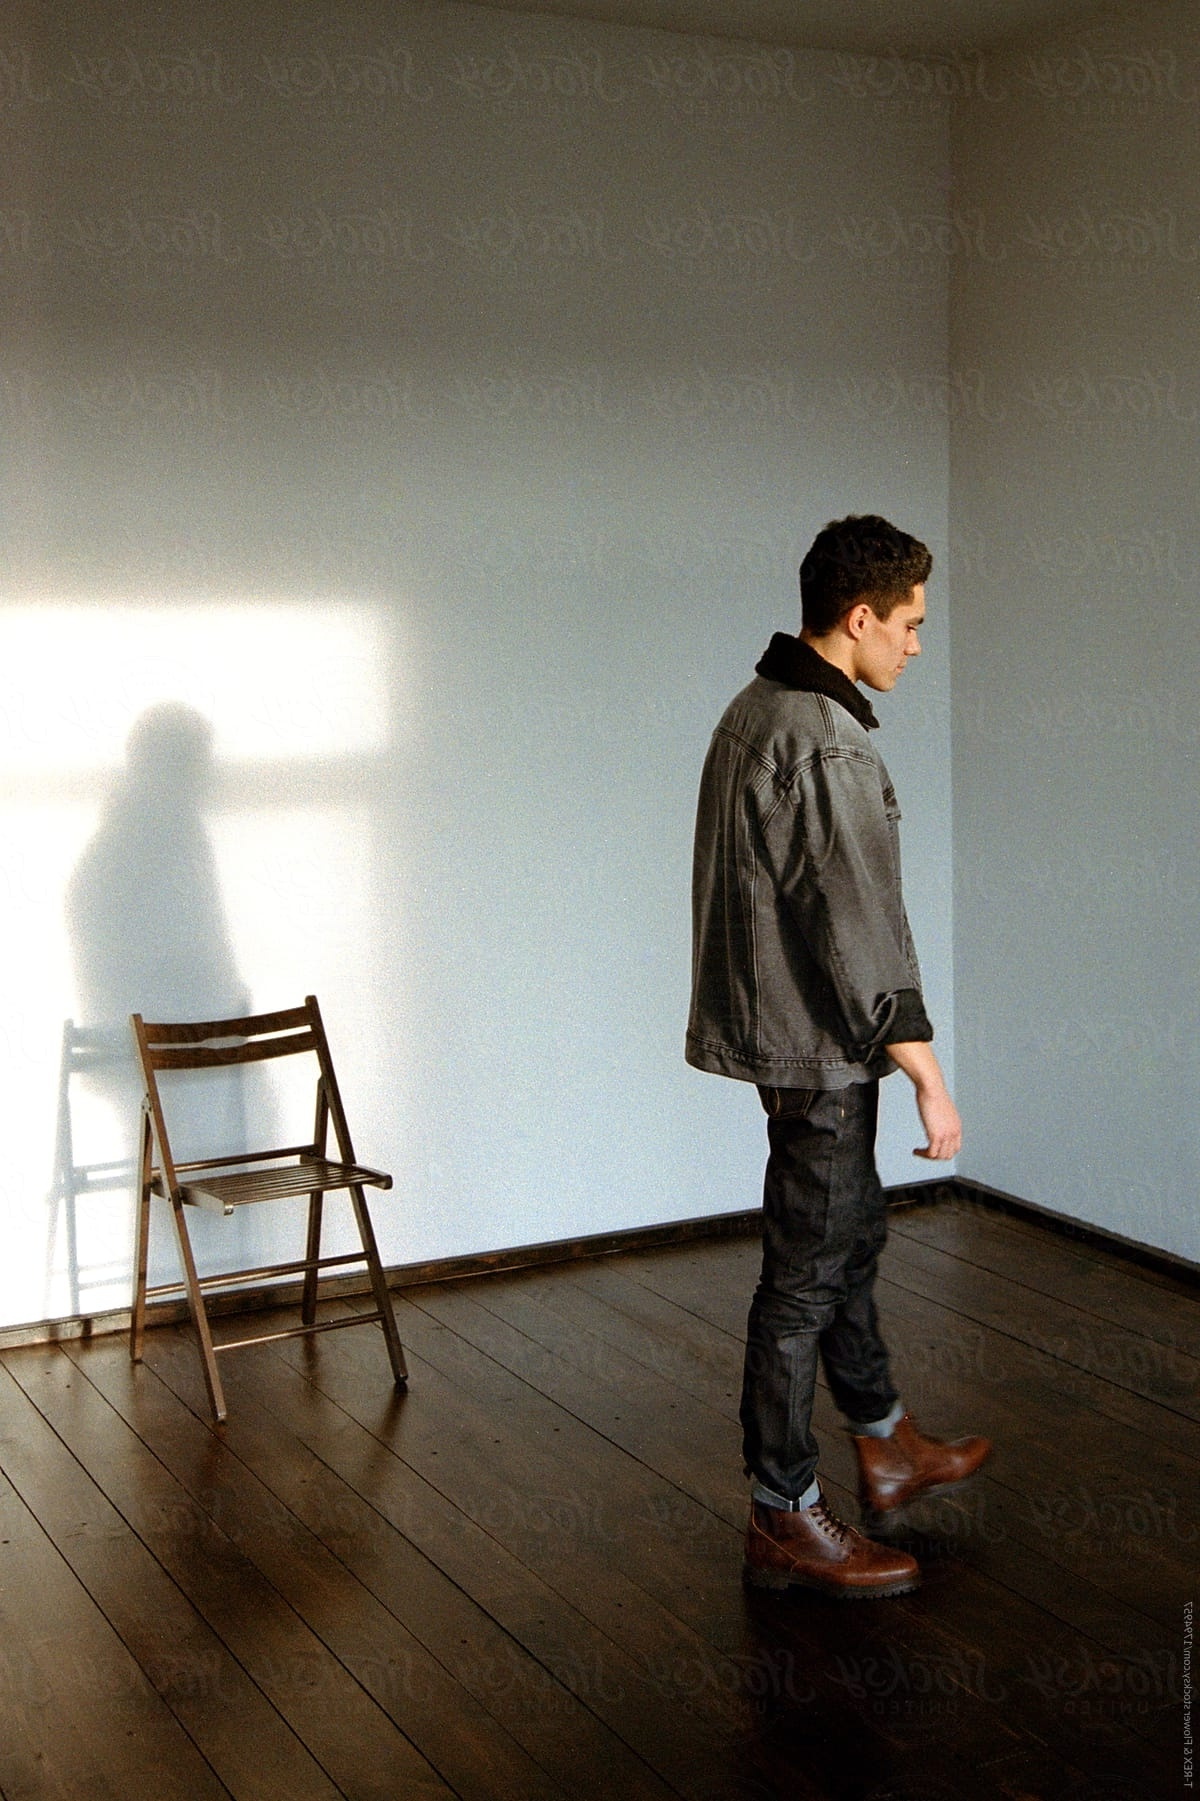not_fallen: (664, 498, 1018, 1610)
